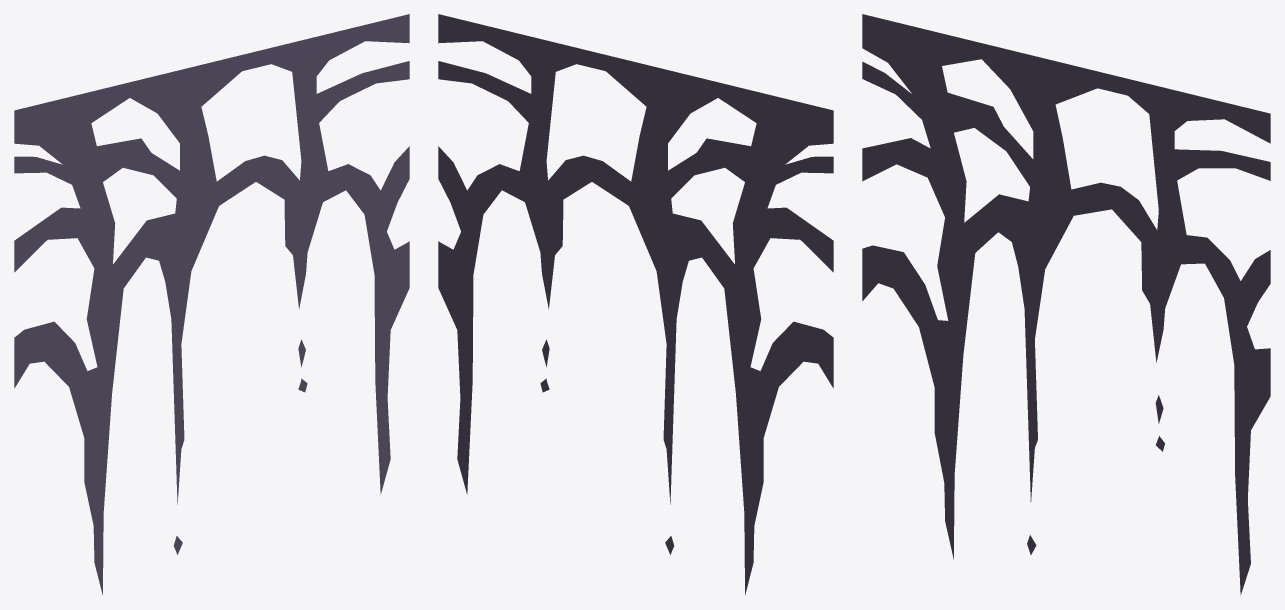
Rendered from WaveWipeFoam_0.glb.
3 renders of one model, left to right at view 1: azimuth 30°, elevation 25°; view 2: azimuth 150°, elevation 25°; view 3: azimuth 330°, elevation 25°, orthographic. The views are drawn at different scales.
Visible parts, largest first — view 1: WaveWipeFoam; view 2: WaveWipeFoam; view 3: WaveWipeFoam.
Part boxes in pixels (x1,y1,x2,y2): WaveWipeFoam: [14, 14, 409, 595]; WaveWipeFoam: [438, 14, 833, 595]; WaveWipeFoam: [862, 14, 1270, 594].
Size of the model in its own units: 1.87 by 2.3 by 0.
